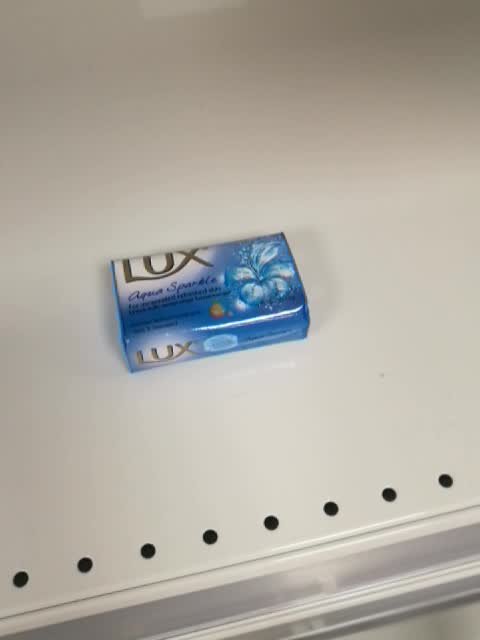soap: (107, 230, 311, 374)
